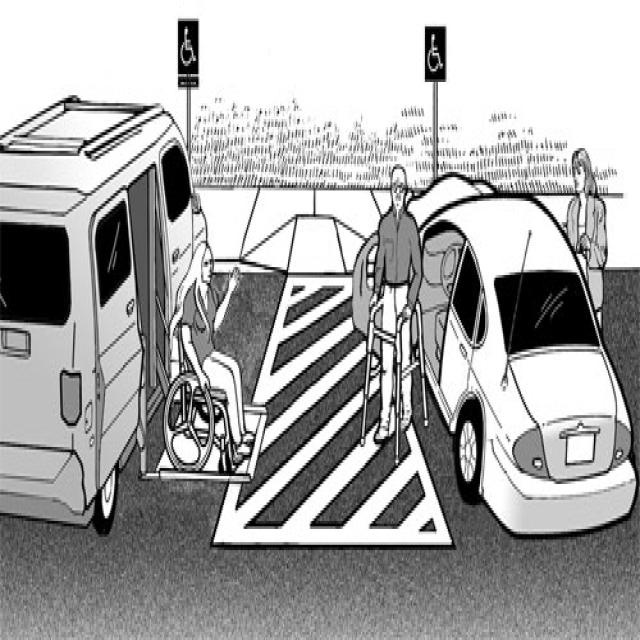ISA: (426, 35, 448, 74), (180, 25, 197, 73)
